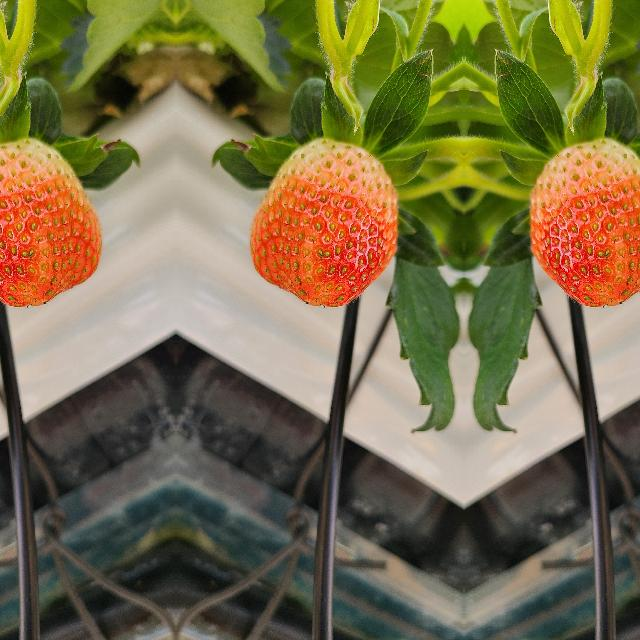Health_75: (248, 136, 398, 310), (528, 136, 640, 310), (0, 136, 102, 310)
